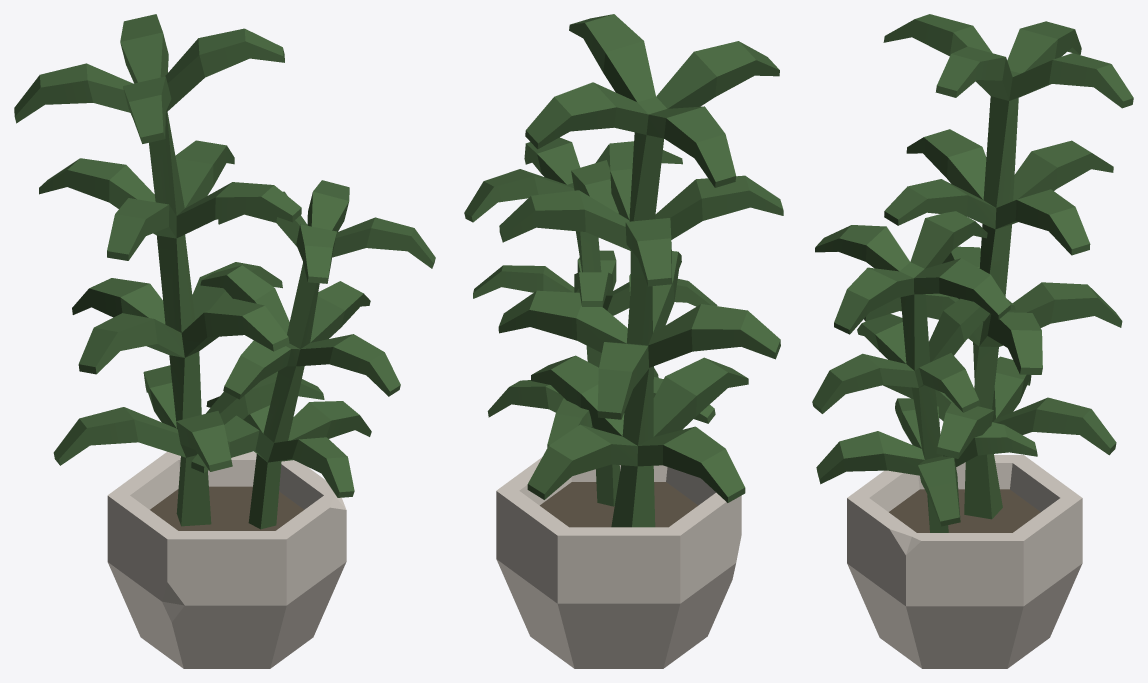
The model's file is SM_Prop_PotPlant_01.obj.
3 views of the same model, side by side, from view 1: azimuth 30°, elevation 25°; view 2: azimuth 150°, elevation 25°; view 3: azimuth 270°, elevation 25° (orthographic). The views are drawn at different scales.
Visible parts, largest first — view 1: SM_Prop_PotPlant_01_0; view 2: SM_Prop_PotPlant_01_0; view 3: SM_Prop_PotPlant_01_0.
Boxes of the visible parts, x1,y1,x2,y2 form: SM_Prop_PotPlant_01_0: (14,14,435,668); SM_Prop_PotPlant_01_0: (464,14,783,668); SM_Prop_PotPlant_01_0: (812,14,1133,668).
Size of the model in its own units: 0.4366 by 0.7958 by 0.3935.
1 material, 1 textured.
